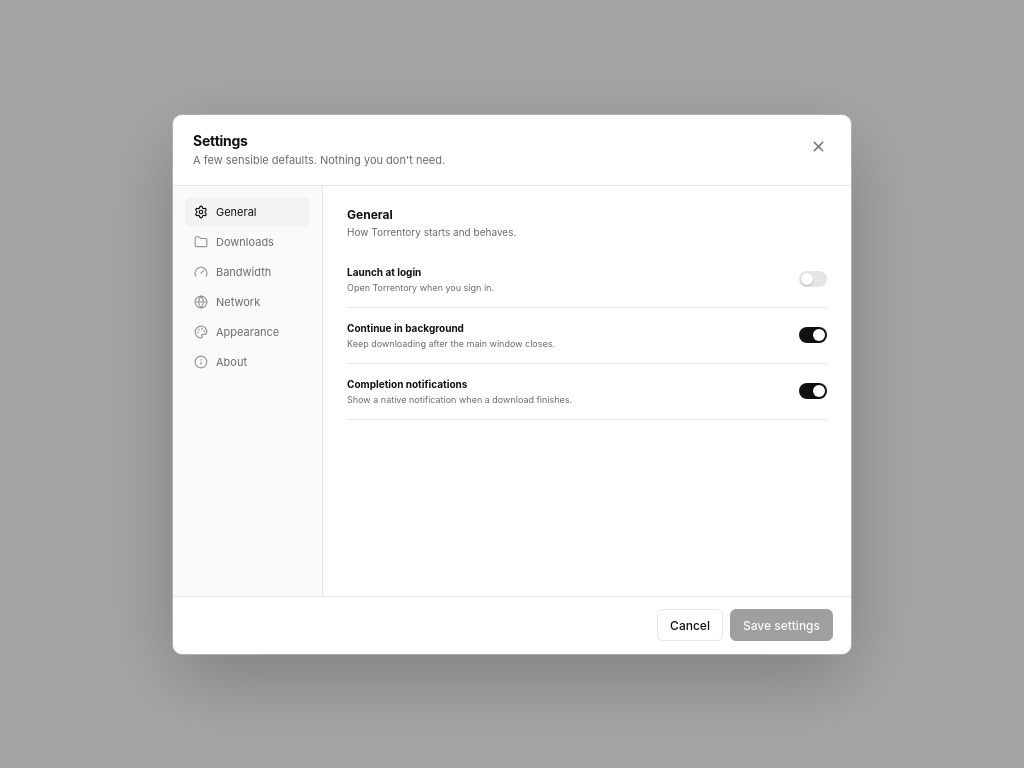
Scenario: blocks saving an invalid port and explains why
Click the button "Network": (248, 302) 185,288 -> 310,316
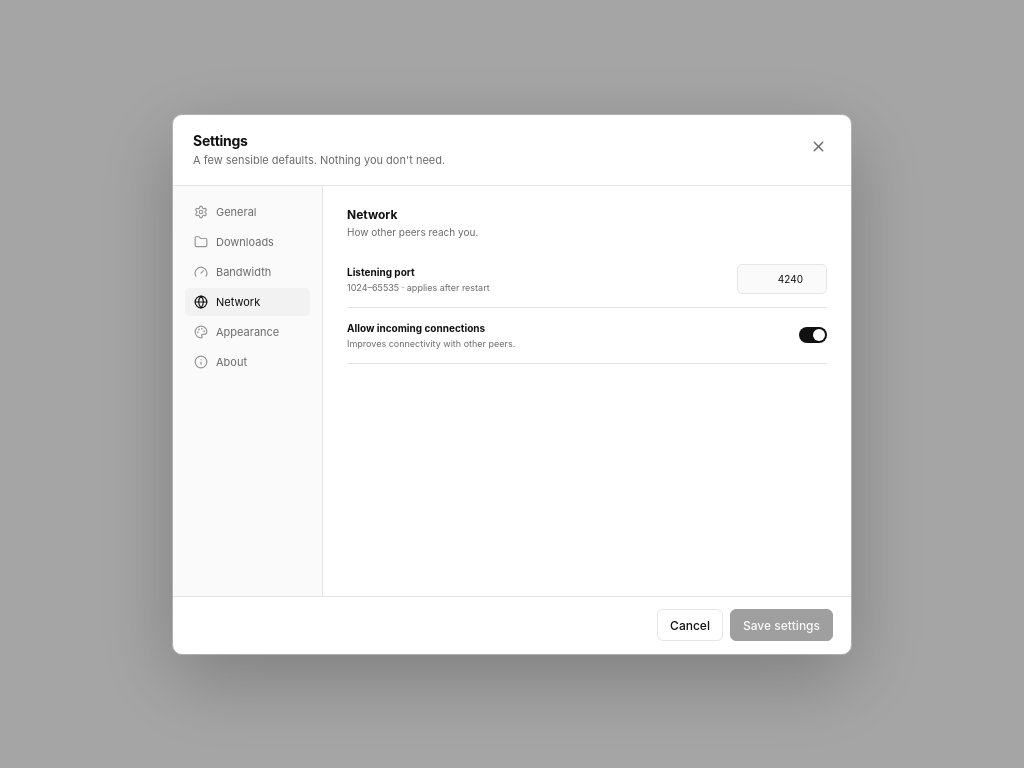
Replace the text in the number field with "80": (782, 279) 737,264 -> 827,294
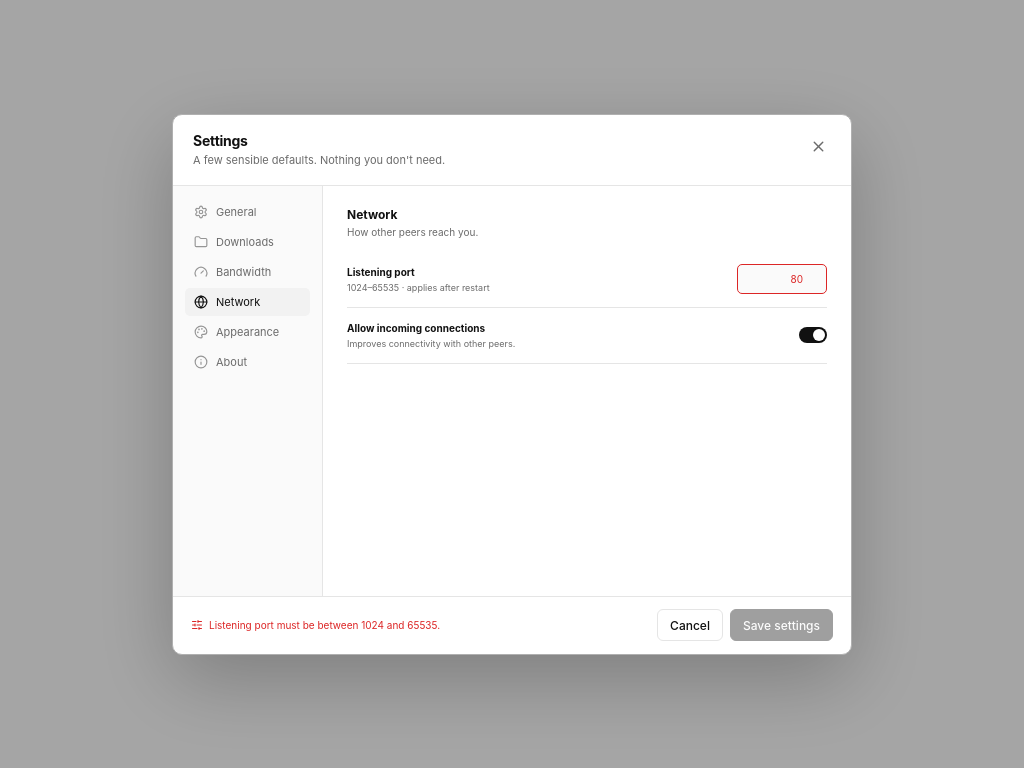
expect the button "Save settings" is disabled: met, box 730,609 -> 833,641
expect the message shows "between 1024 and 65535": met, box 209,619 -> 440,631
